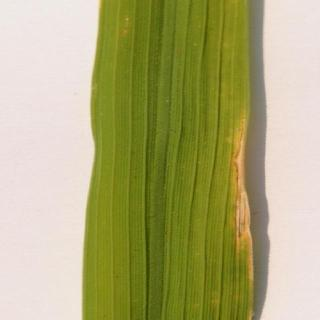Hawar-Daun: (216, 109, 270, 308)
